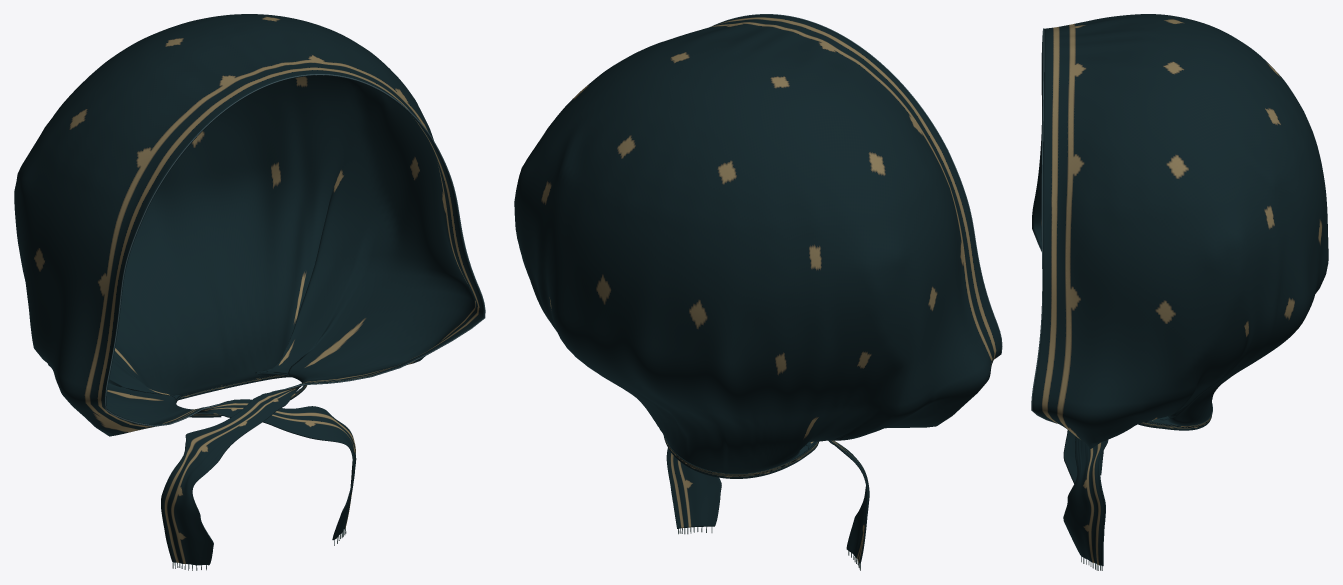
File: Feminine-twin-braids-bandeau-pashmina249-headgear.glb
The picture shows the model from 3 angles, left to right: view 1: azimuth 30°, elevation 25°; view 2: azimuth 150°, elevation 25°; view 3: azimuth 270°, elevation 25°; orthographic projection. The views are drawn at different scales.
Visible parts, largest first — view 1: 226 headgear / Headwear / continuous woven pashmina239, 226 headgear / Headwear / face edge239; view 2: 226 headgear / Headwear / continuous woven pashmina239, 226 headgear / Headwear / face edge239; view 3: 226 headgear / Headwear / continuous woven pashmina239, 226 headgear / Headwear / face edge239.
Boxes of the visible parts, left/top/right/bottom form: 226 headgear / Headwear / continuous woven pashmina239: left=14, top=14, right=484, bottom=565; 226 headgear / Headwear / face edge239: left=105, top=74, right=485, bottom=426; 226 headgear / Headwear / continuous woven pashmina239: left=514, top=14, right=1001, bottom=564; 226 headgear / Headwear / face edge239: left=710, top=14, right=1002, bottom=358; 226 headgear / Headwear / continuous woven pashmina239: left=1032, top=14, right=1328, bottom=566; 226 headgear / Headwear / face edge239: left=1031, top=28, right=1057, bottom=423.
Bounding box in the file's own units: 1.16 × 1.36 × 0.7437.
Materials: 3 (1 with a texture image).
